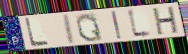H: (152, 5, 180, 37)
I: (63, 13, 77, 46), (110, 10, 123, 40)
L: (126, 7, 155, 40), (23, 17, 50, 48)
Q: (75, 12, 105, 43)
